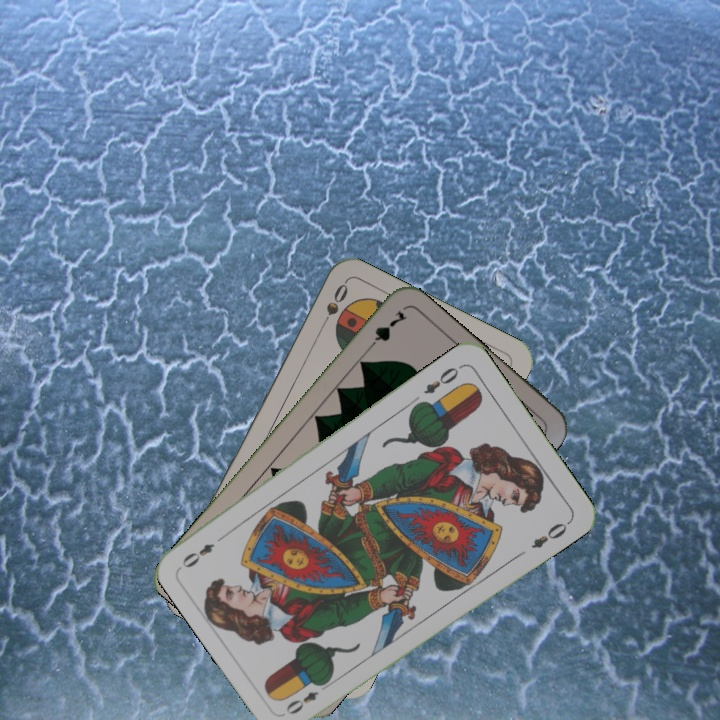EO: (281, 677, 332, 718), (419, 360, 465, 397)
G7: (362, 306, 410, 355)
SO: (317, 279, 351, 334)
